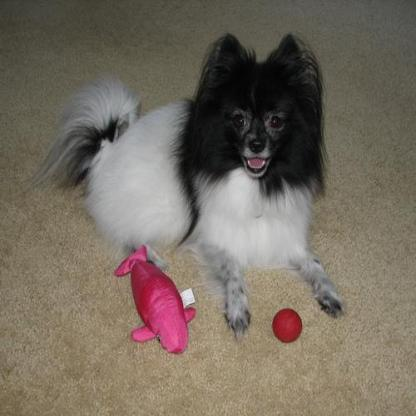Pomeranian: (22, 30, 345, 339)
